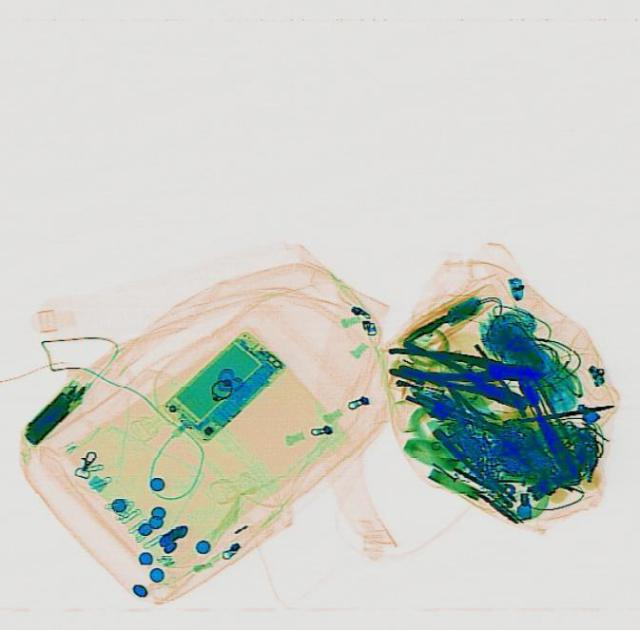Pliers: (390, 338, 536, 418), (384, 344, 540, 385)
